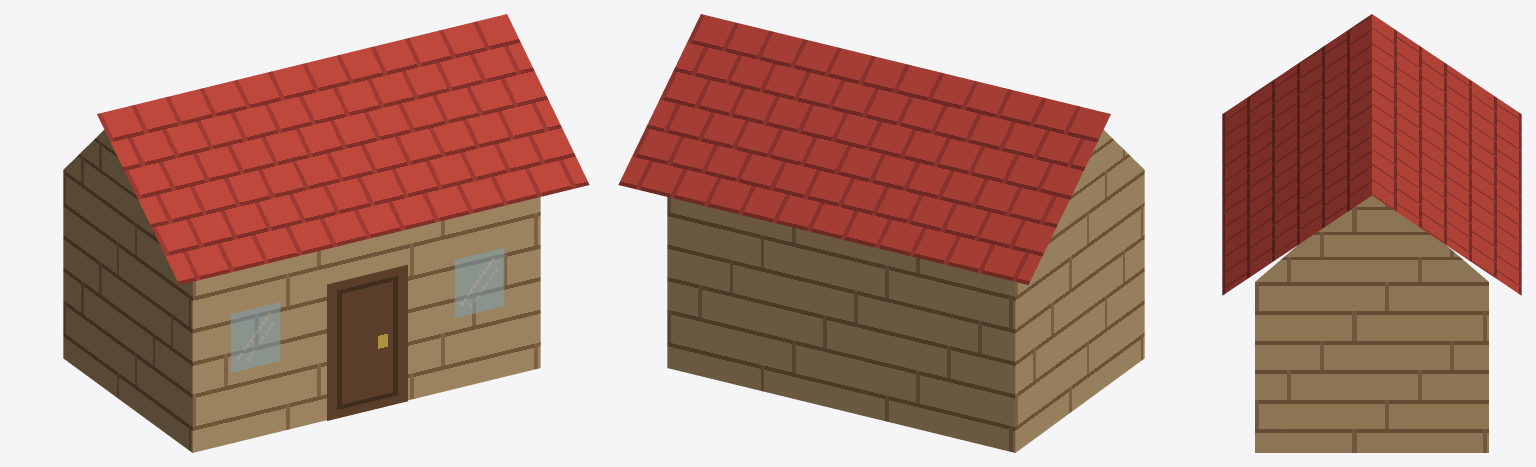
Rendered from kiosk.gltf.
3 views of the same model, side by side, from view 1: azimuth 30°, elevation 25°; view 2: azimuth 150°, elevation 25°; view 3: azimuth 270°, elevation 25° (orthographic). The views are drawn at different scales.
Visible parts, largest first — view 1: kiosk; view 2: kiosk; view 3: kiosk.
Part boxes in pixels (x1,y1,x2,y2): kiosk: (63, 14, 589, 452); kiosk: (618, 14, 1144, 452); kiosk: (1222, 14, 1521, 452).
Size of the model in its own units: 132 by 92 by 92.
Materials: 4 (4 with a texture image).
